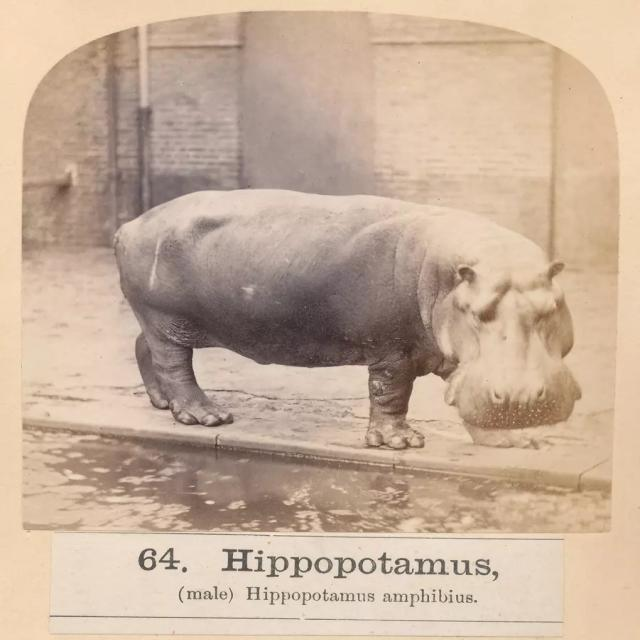Hippopotamus: (112, 188, 586, 447)
